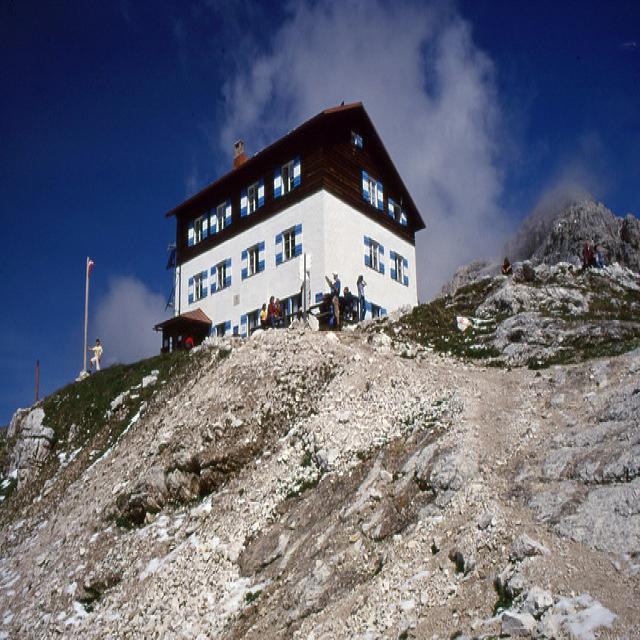Normal_building: (155, 97, 423, 363)
